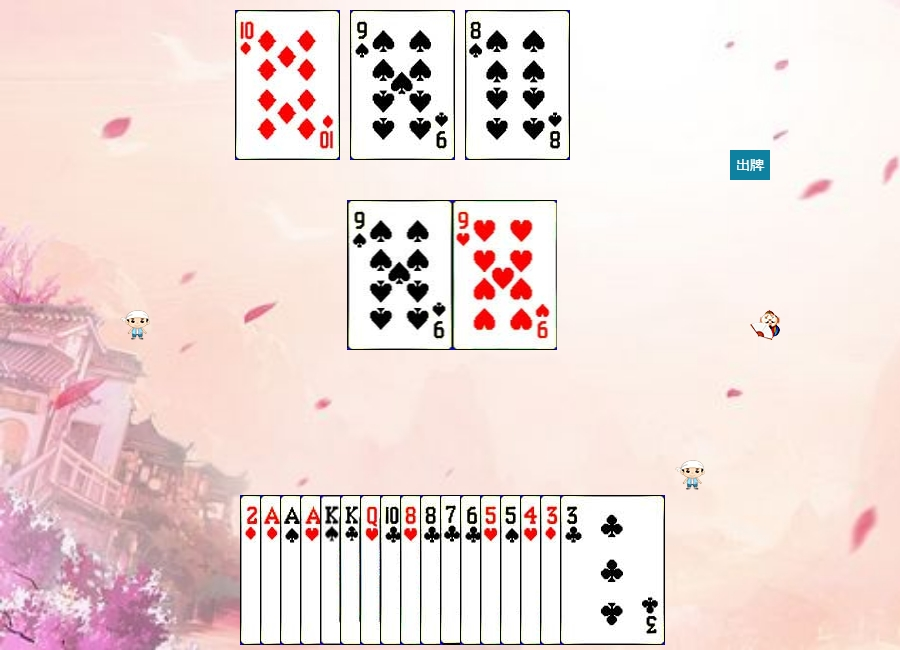10~1: (235, 10, 340, 160)
10~2: (380, 495, 485, 645)
12~3: (360, 495, 465, 645)
13~2: (340, 495, 445, 645)
13~4: (320, 495, 425, 645)
14~1: (260, 495, 365, 645)
14~3: (300, 495, 405, 645)
14~4: (280, 495, 385, 645)
15~1: (240, 495, 345, 645)
3~1: (540, 495, 645, 645)
3~2: (560, 495, 665, 645)
4~3: (520, 495, 625, 645)
5~3: (480, 495, 585, 645)
5~4: (500, 495, 605, 645)
6~2: (460, 495, 565, 645)
7~2: (440, 495, 545, 645)
8~2: (420, 495, 525, 645)
8~3: (400, 495, 505, 645)
8~4: (465, 10, 570, 160)
9~3: (453, 200, 558, 350)
9~4: (350, 10, 455, 160), (348, 200, 453, 350)
